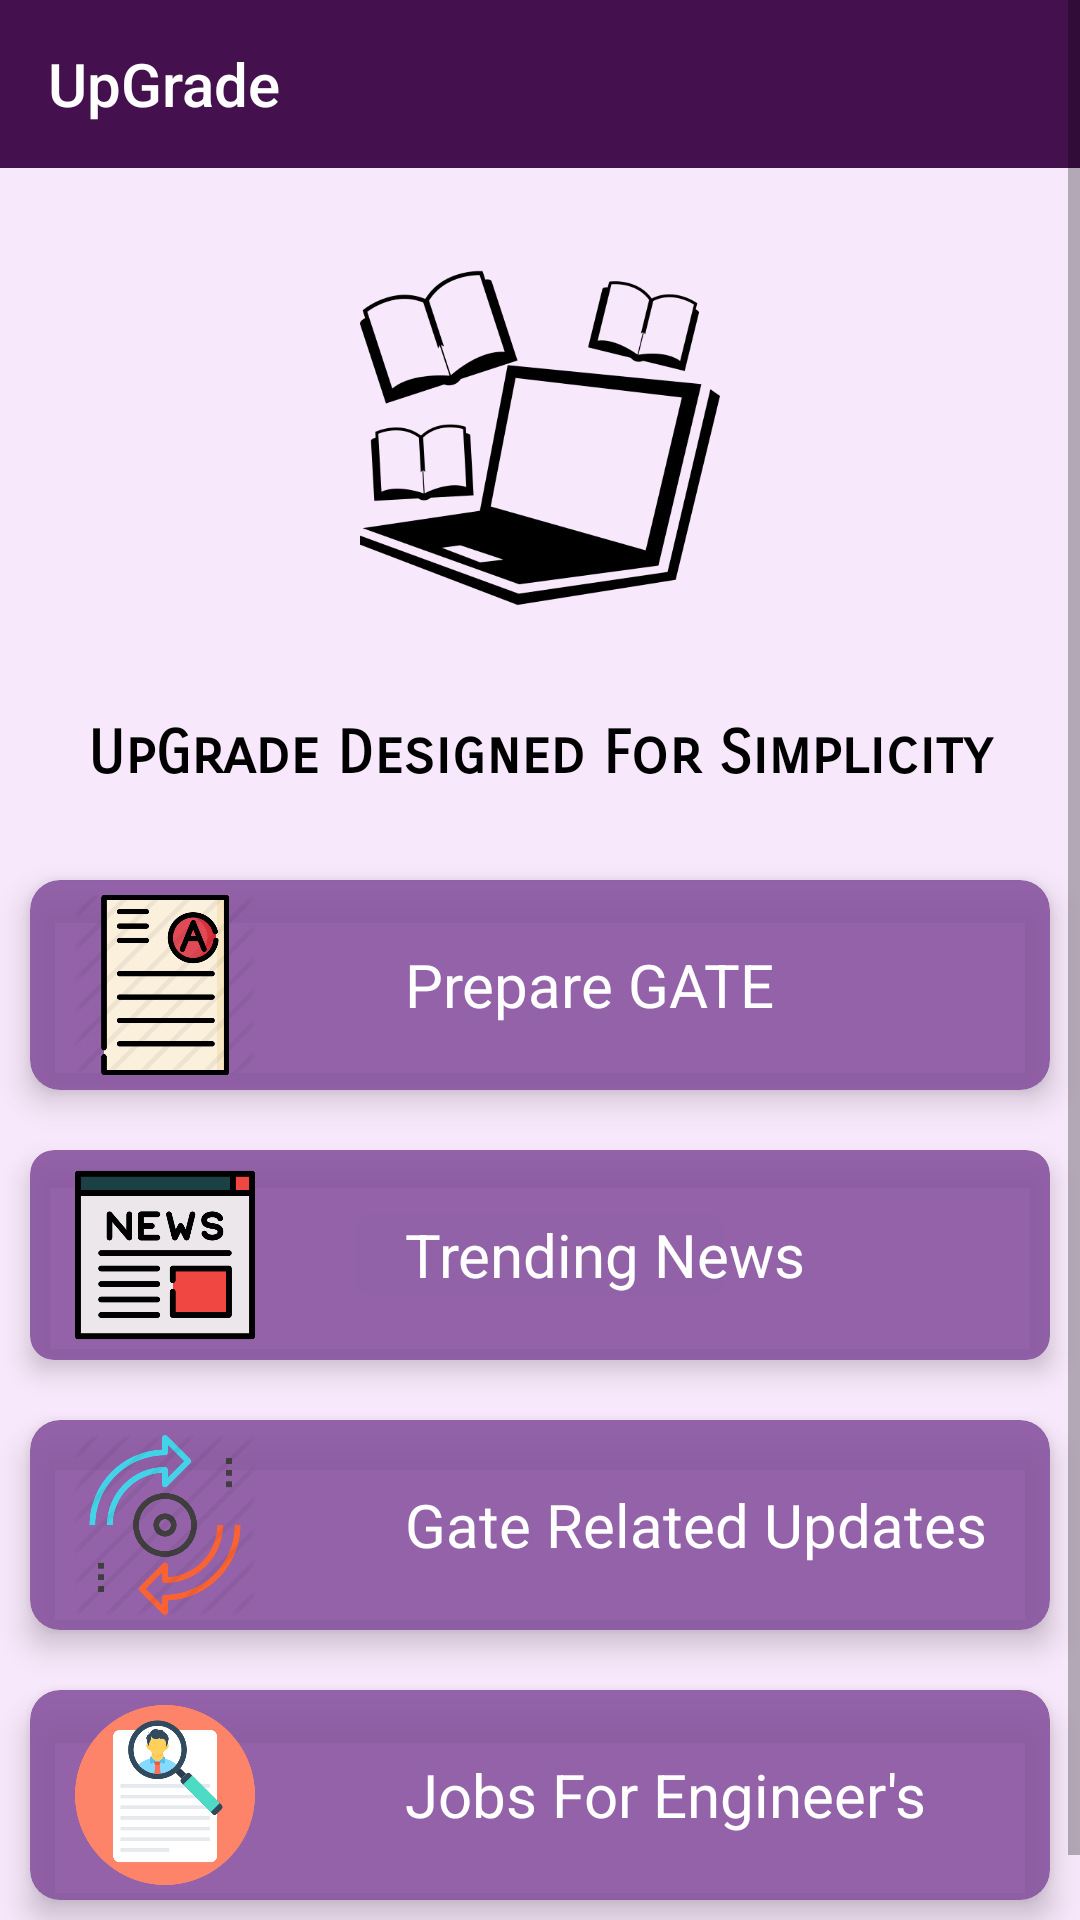

Icons on this 1080px×1920px Android screen, each with the point to tap as (x,y):
job card: (165,1795)
newscard: (165,1255)
study lappy: (540,438)
